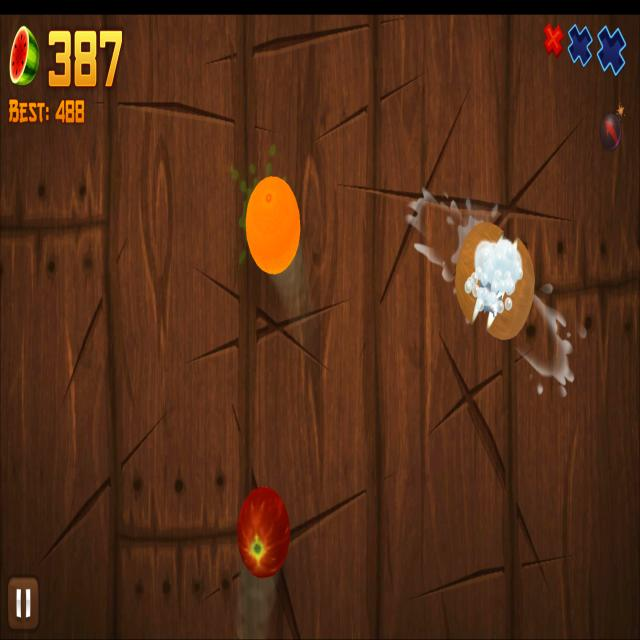fruit: (245, 176, 301, 275), (237, 487, 291, 578)
